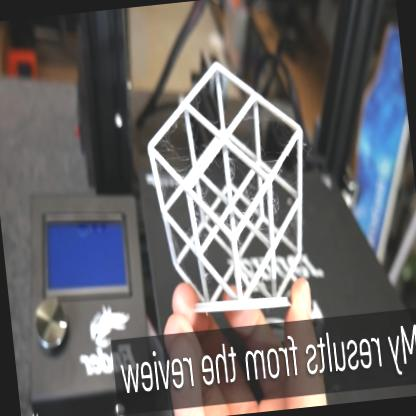fail: (160, 140, 186, 164), (227, 159, 239, 185), (273, 192, 283, 221)
